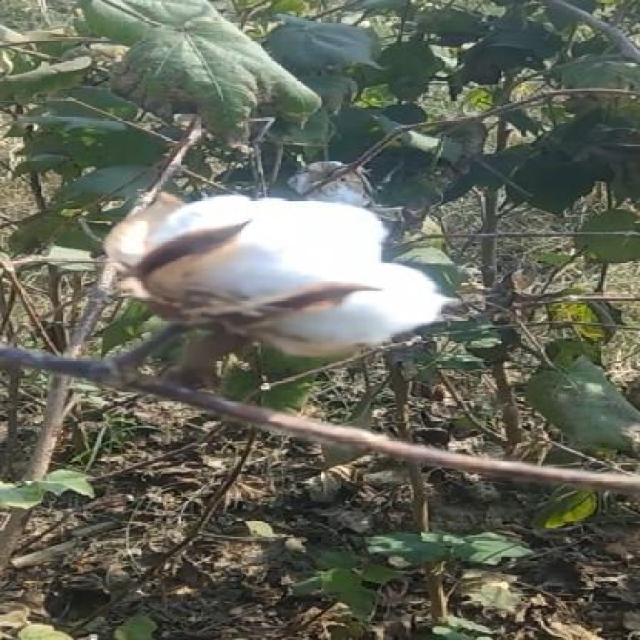cotton_ready: (111, 178, 477, 400)
